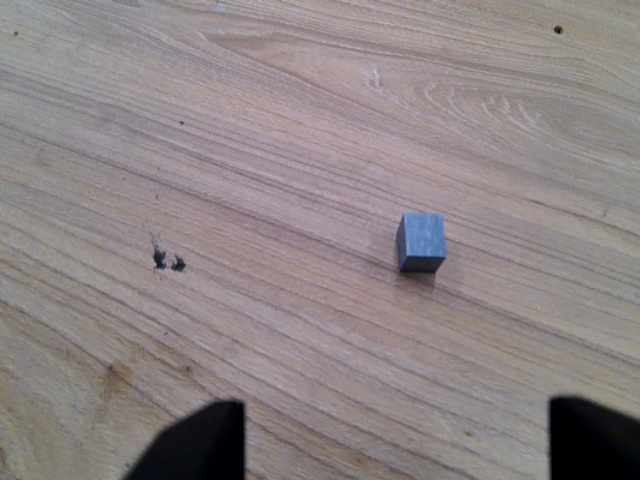stone: (394, 210, 449, 277)
